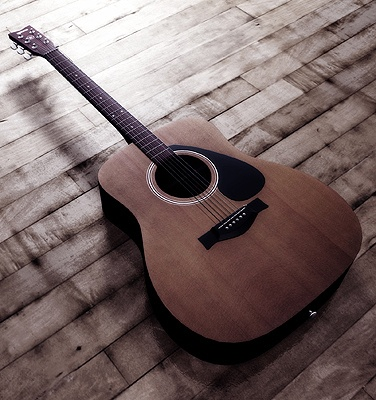guitar: (4, 24, 364, 363)
